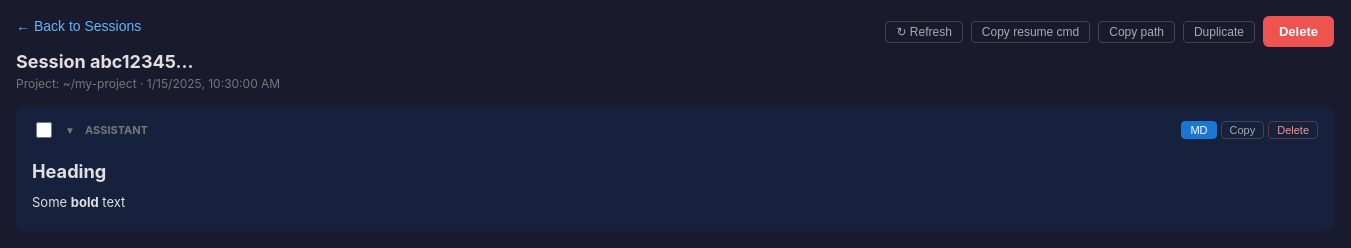
Scenario: SessionDetail › markdown toggle › toggles back to markdown on second click
Expected: the element with class "markdown-body" is shown, [32,160,125,210]
Click the button "MD": click(1199, 130) [1181,121,1216,139]
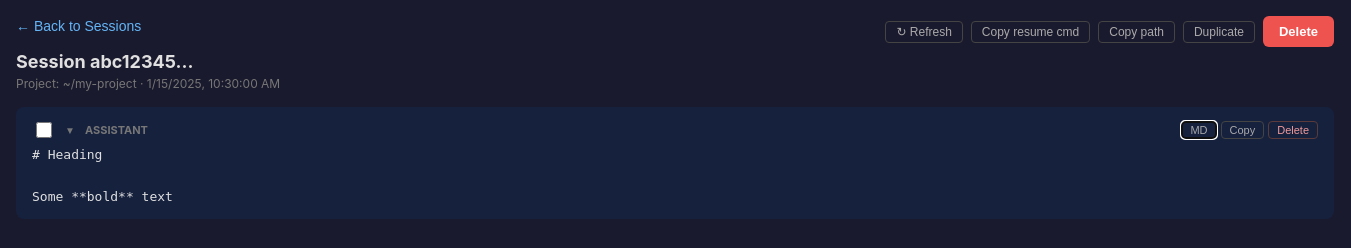
Expected: the element with class "markdown-body" is gone
Expected: the text "# Heading Some **bold** text" is shown, [32,147,173,204]
Click the button "MD": click(1199, 130) [1181,121,1216,139]
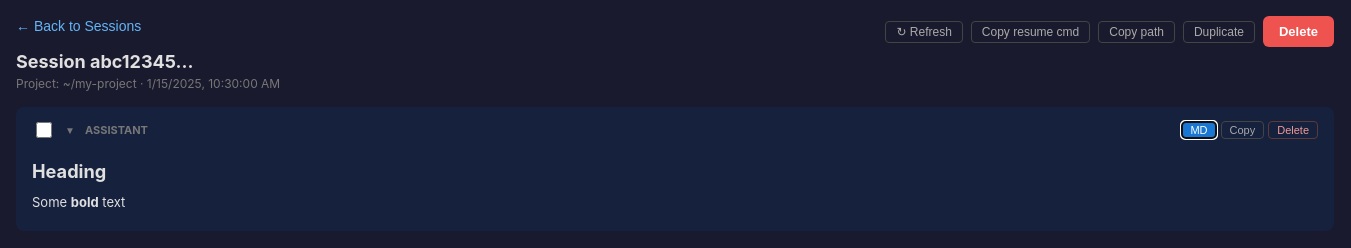
Expected: the element with class "markdown-body" is shown, [32,160,125,210]
Expected: the text with class "message-text" is gone
